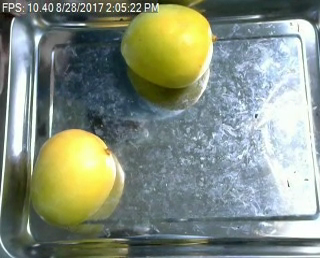Mango: (110, 2, 223, 94), (23, 128, 122, 229)
